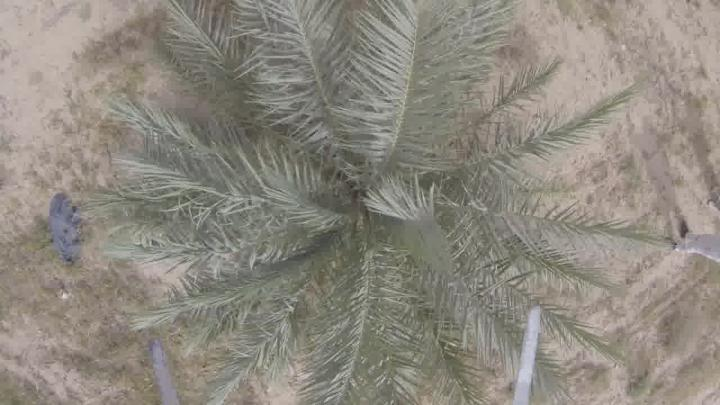Date-Palm-Crown: (214, 51, 504, 348)
